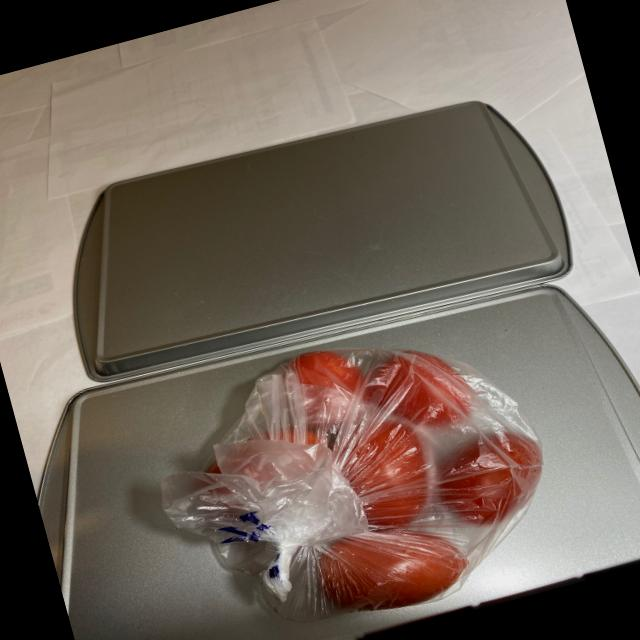tomato: (168, 298, 561, 640)
